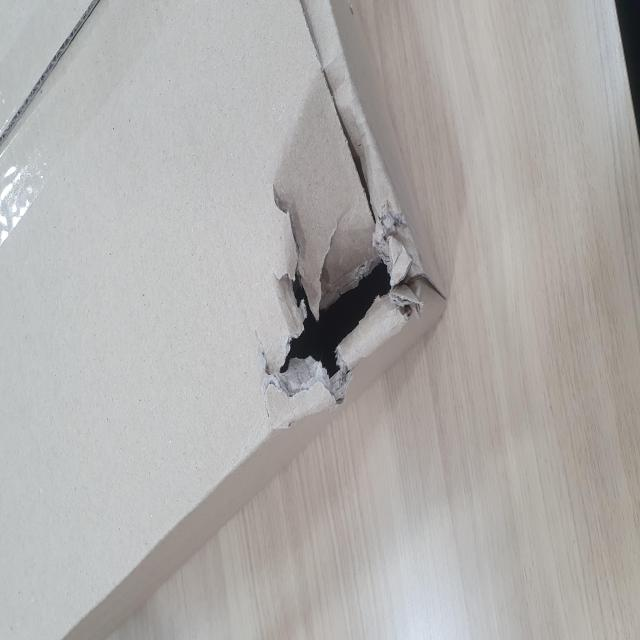damaged: (126, 453, 310, 640)
